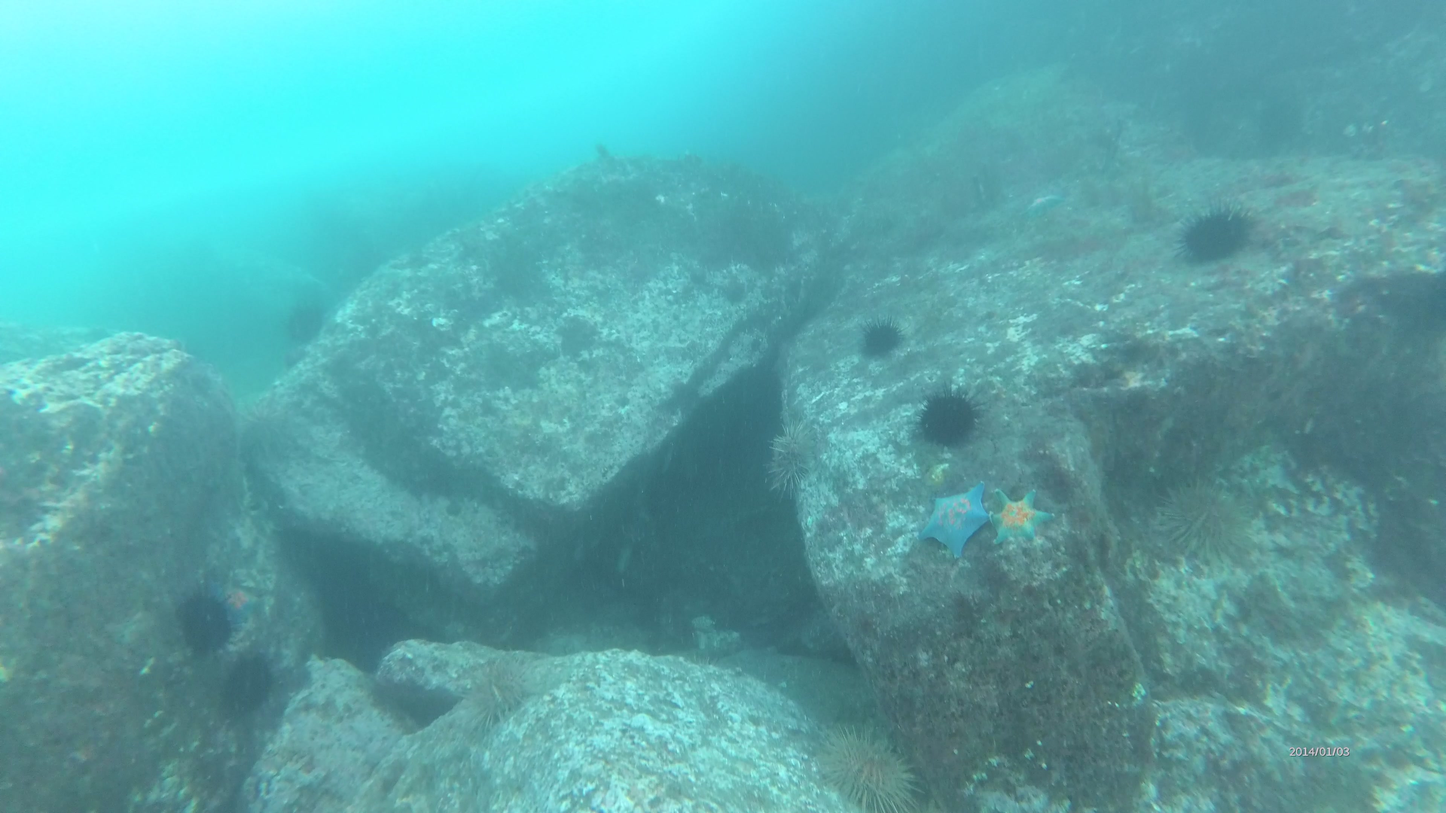holothurian: (917, 476, 993, 561), (981, 481, 1056, 558), (210, 582, 262, 628)
starfish: (811, 726, 933, 813), (1156, 470, 1255, 566), (459, 655, 551, 729), (214, 641, 292, 721), (906, 374, 982, 453), (1175, 195, 1252, 263), (162, 586, 233, 658), (762, 413, 817, 497), (855, 311, 911, 361), (279, 297, 327, 350)
